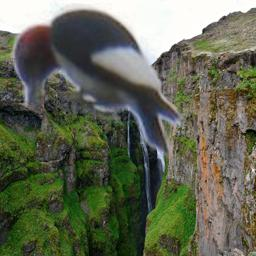Woodpecker: (7, 3, 186, 159)
